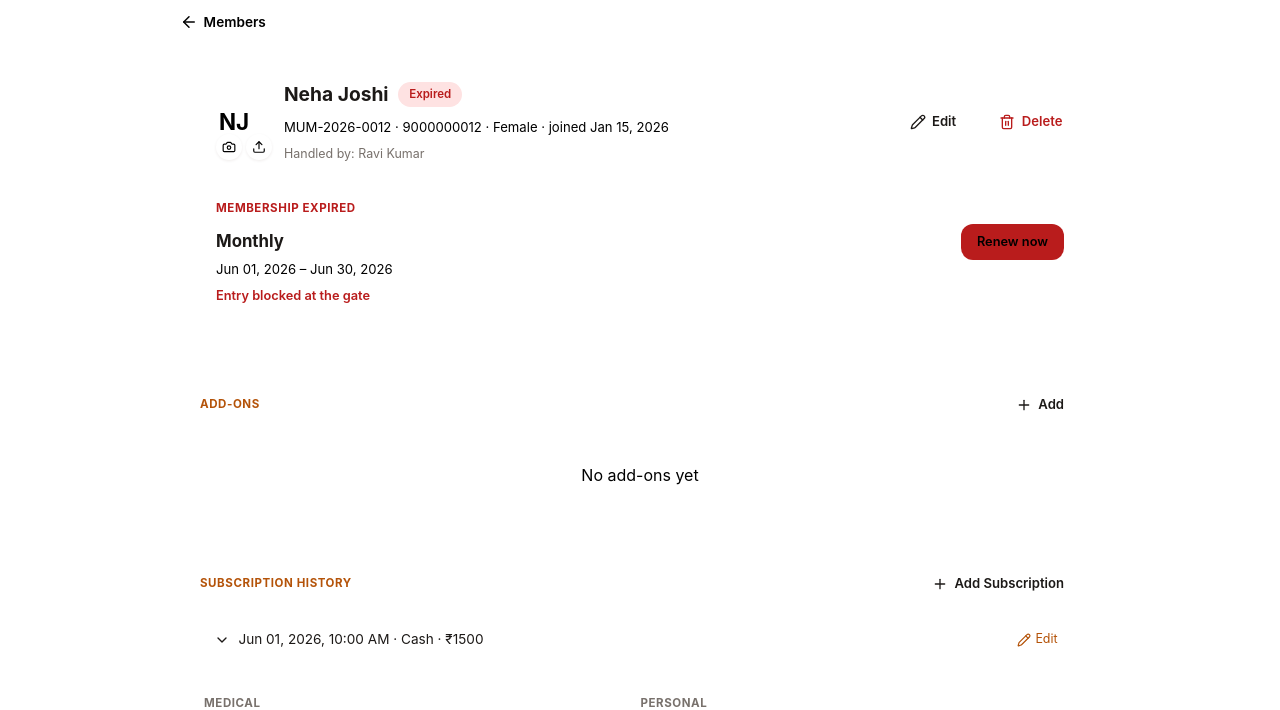
MemberDetailPage — add-ons and subscription history › a failed history edit shows a specific message (offline) and keeps the form
This screenshot has width=1280, height=710.
Step 1. Click the button with class "member-detail-history-edit" → (1037, 640), box [1009,618,1066,662]
(page scrolled)
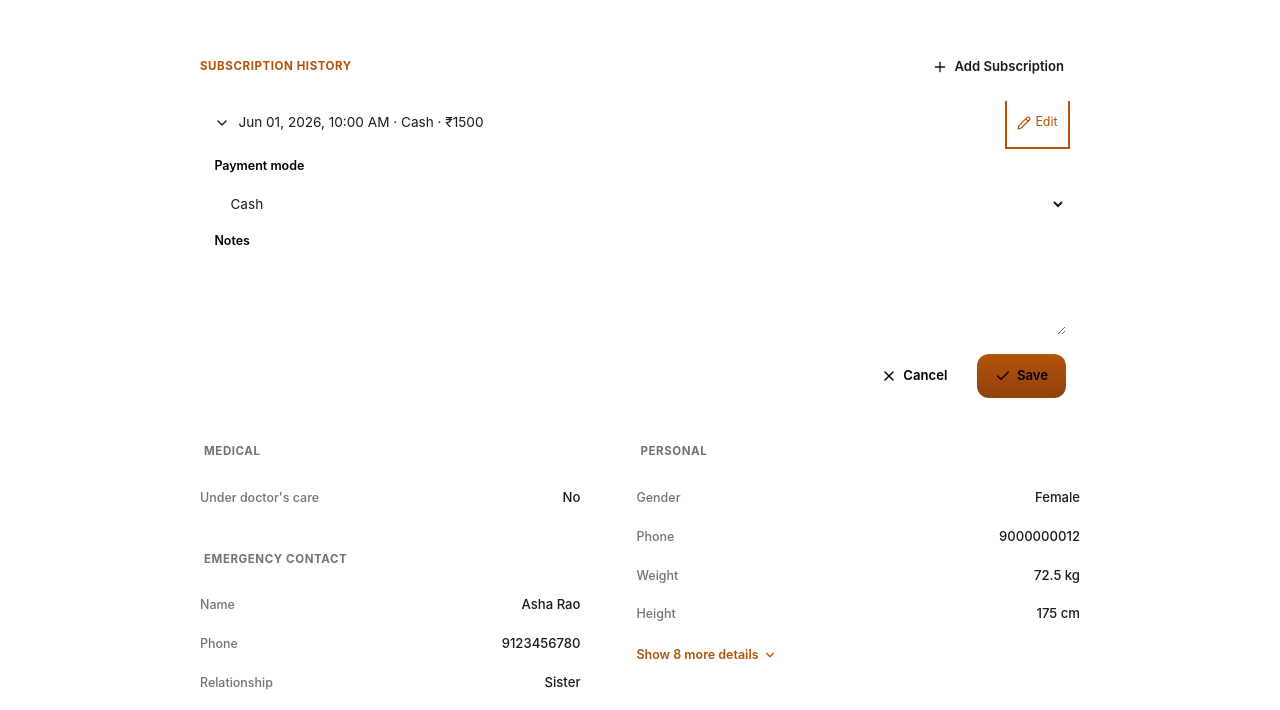
Step 2. Click the button "Save" → (1021, 376), box [977,354,1066,398]
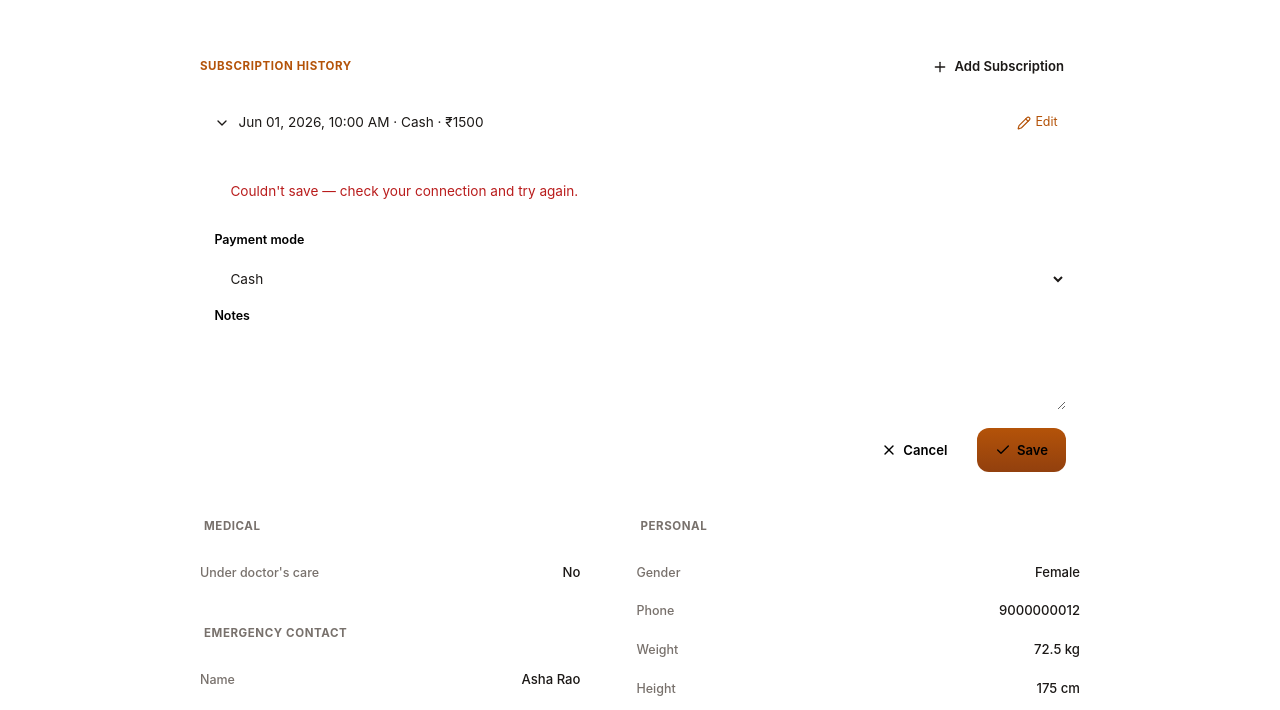
Expected: the text "Couldn't save — check your connection and try again." is shown, [230,183,578,199]
